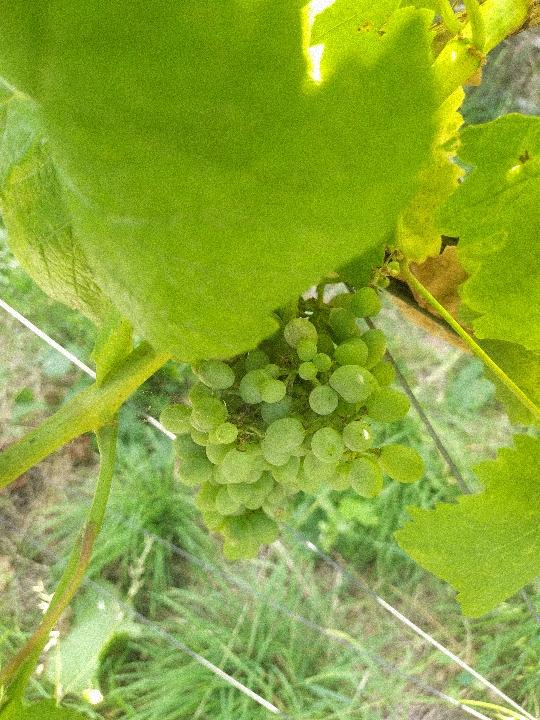grape: (153, 247, 428, 569)
